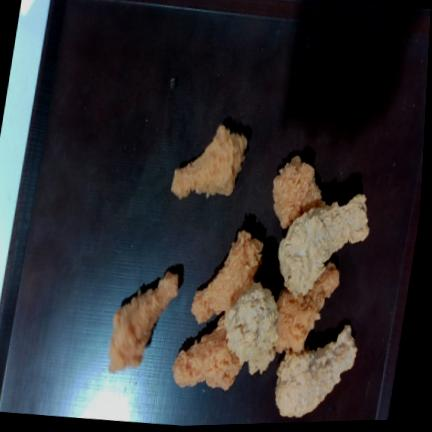chicken: (278, 195, 369, 297), (275, 325, 357, 417), (109, 272, 178, 372), (191, 232, 263, 323), (276, 262, 339, 353), (171, 124, 247, 199), (172, 315, 242, 390), (224, 283, 278, 374), (272, 156, 325, 229)
